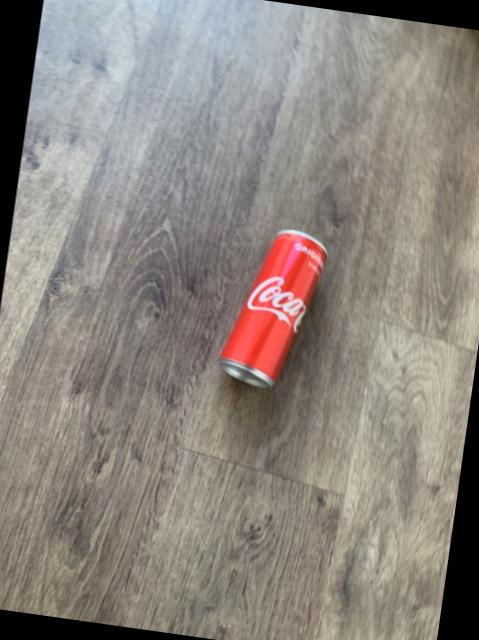metal: (220, 231, 326, 389)
